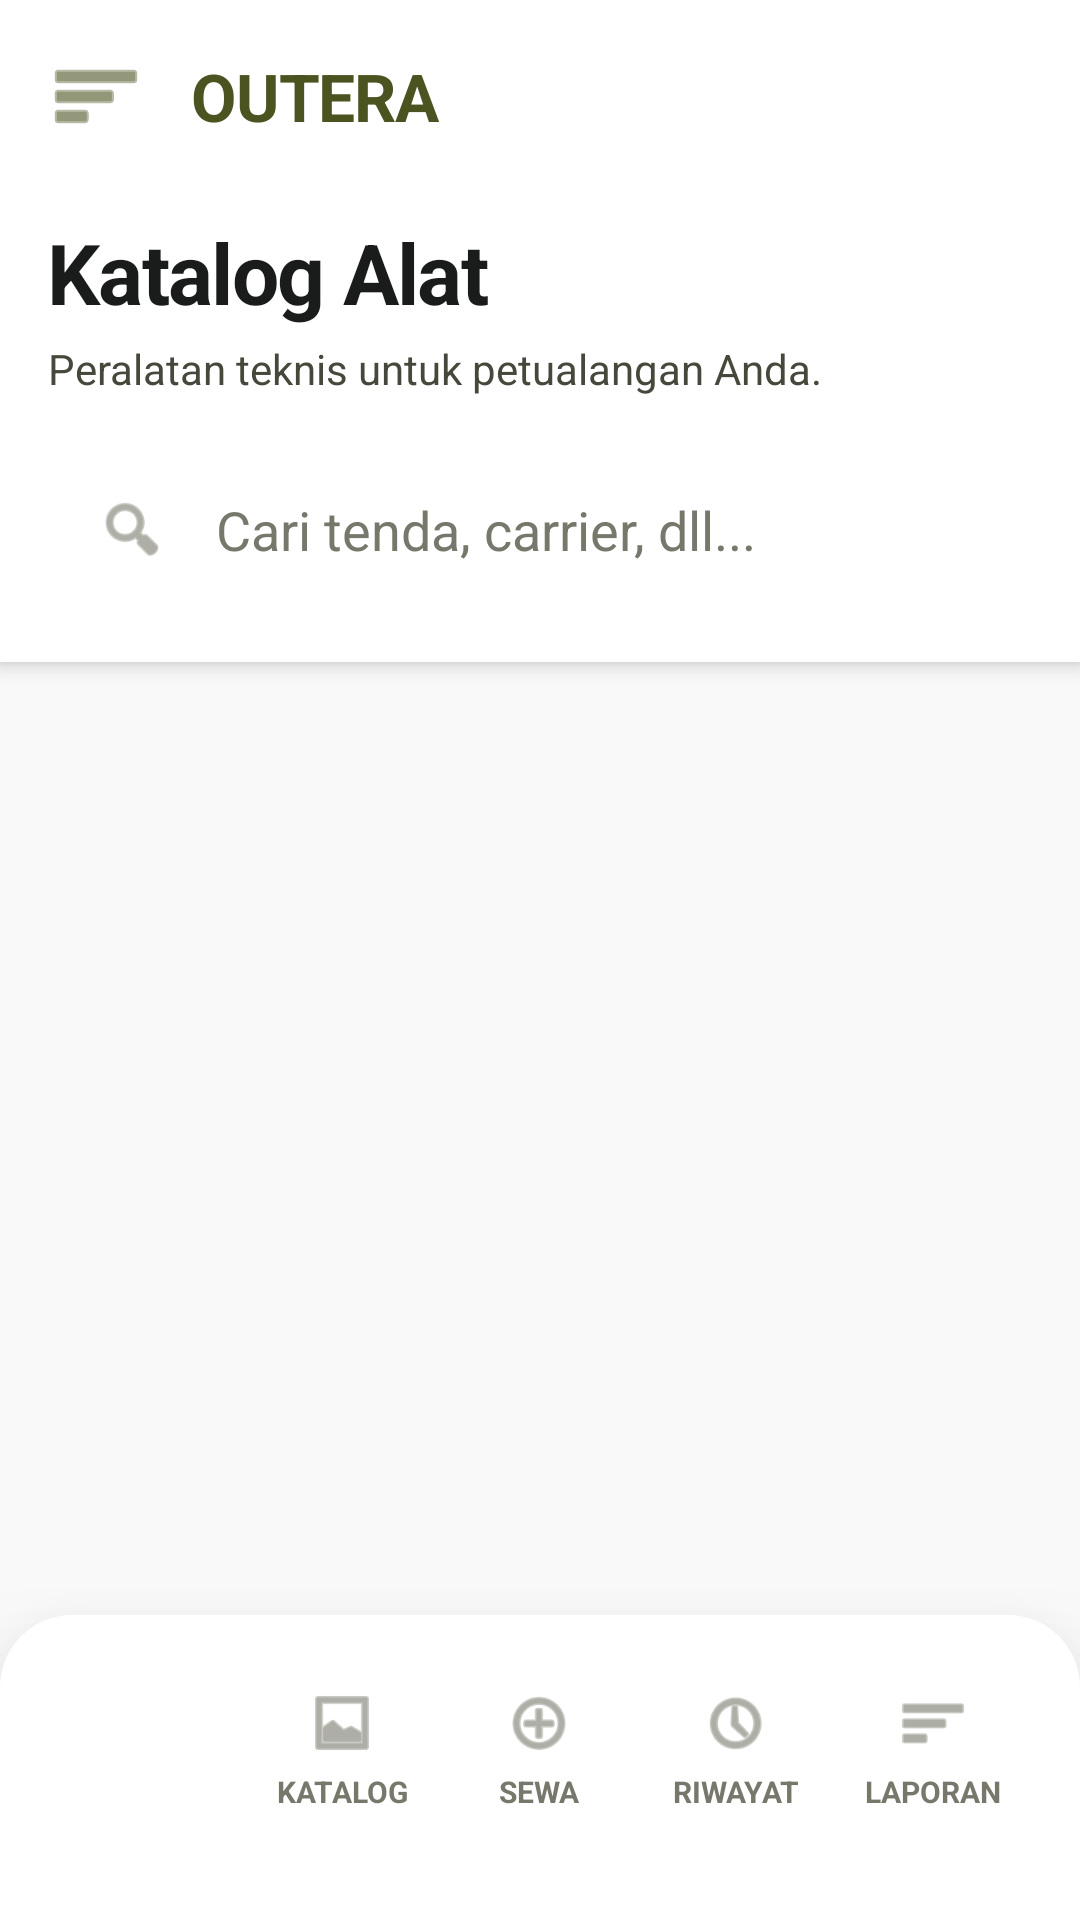

Named icons in this screenshot (1080 x 1920) and their bounding boxes, (x1, y1, x2, y2):
add: (512, 1697, 566, 1750)
gallery: (315, 1696, 369, 1750)
search: (106, 503, 158, 556)
sort by size: (55, 70, 137, 123), (902, 1703, 964, 1743)
